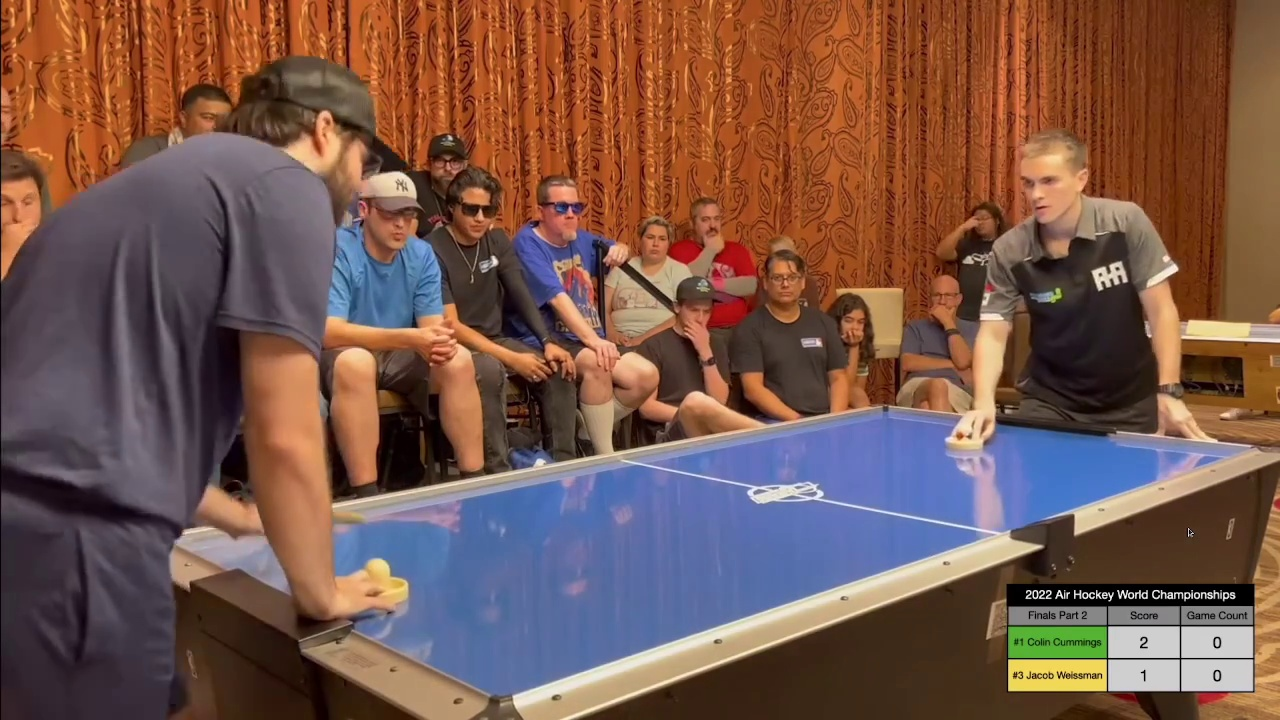player: (347, 558, 410, 606), (943, 416, 986, 454)
puck: (326, 510, 368, 525)
table: (174, 404, 1280, 711)
